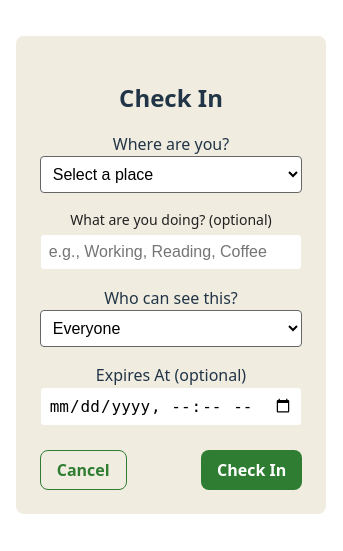
Test case: CheckInForm › shows an error message when the form submission fails
// Fill out the form
Select "Coffee Shop" in the dropdown labelled "Where are you?" at (171, 174), box [40, 156, 302, 193]
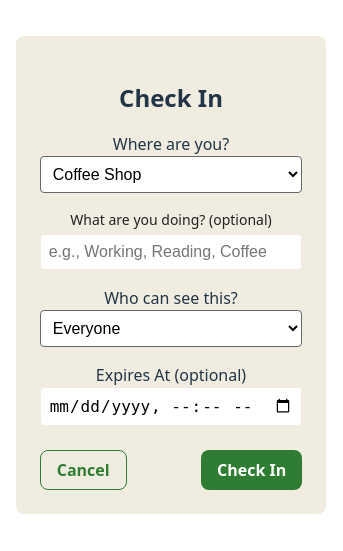
// Submit the form
Click the button "Check In".
click(252, 470)  # box [201, 450, 302, 490]
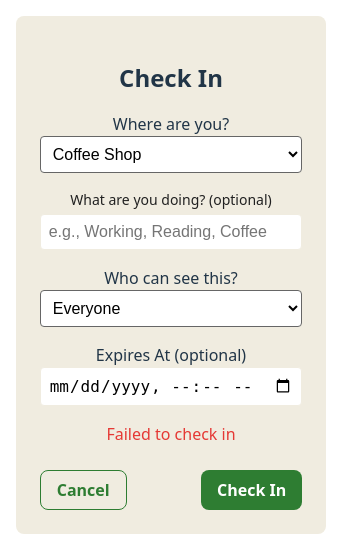
Expected: the text "Failed to check in" is shown, [106, 423, 236, 445]
